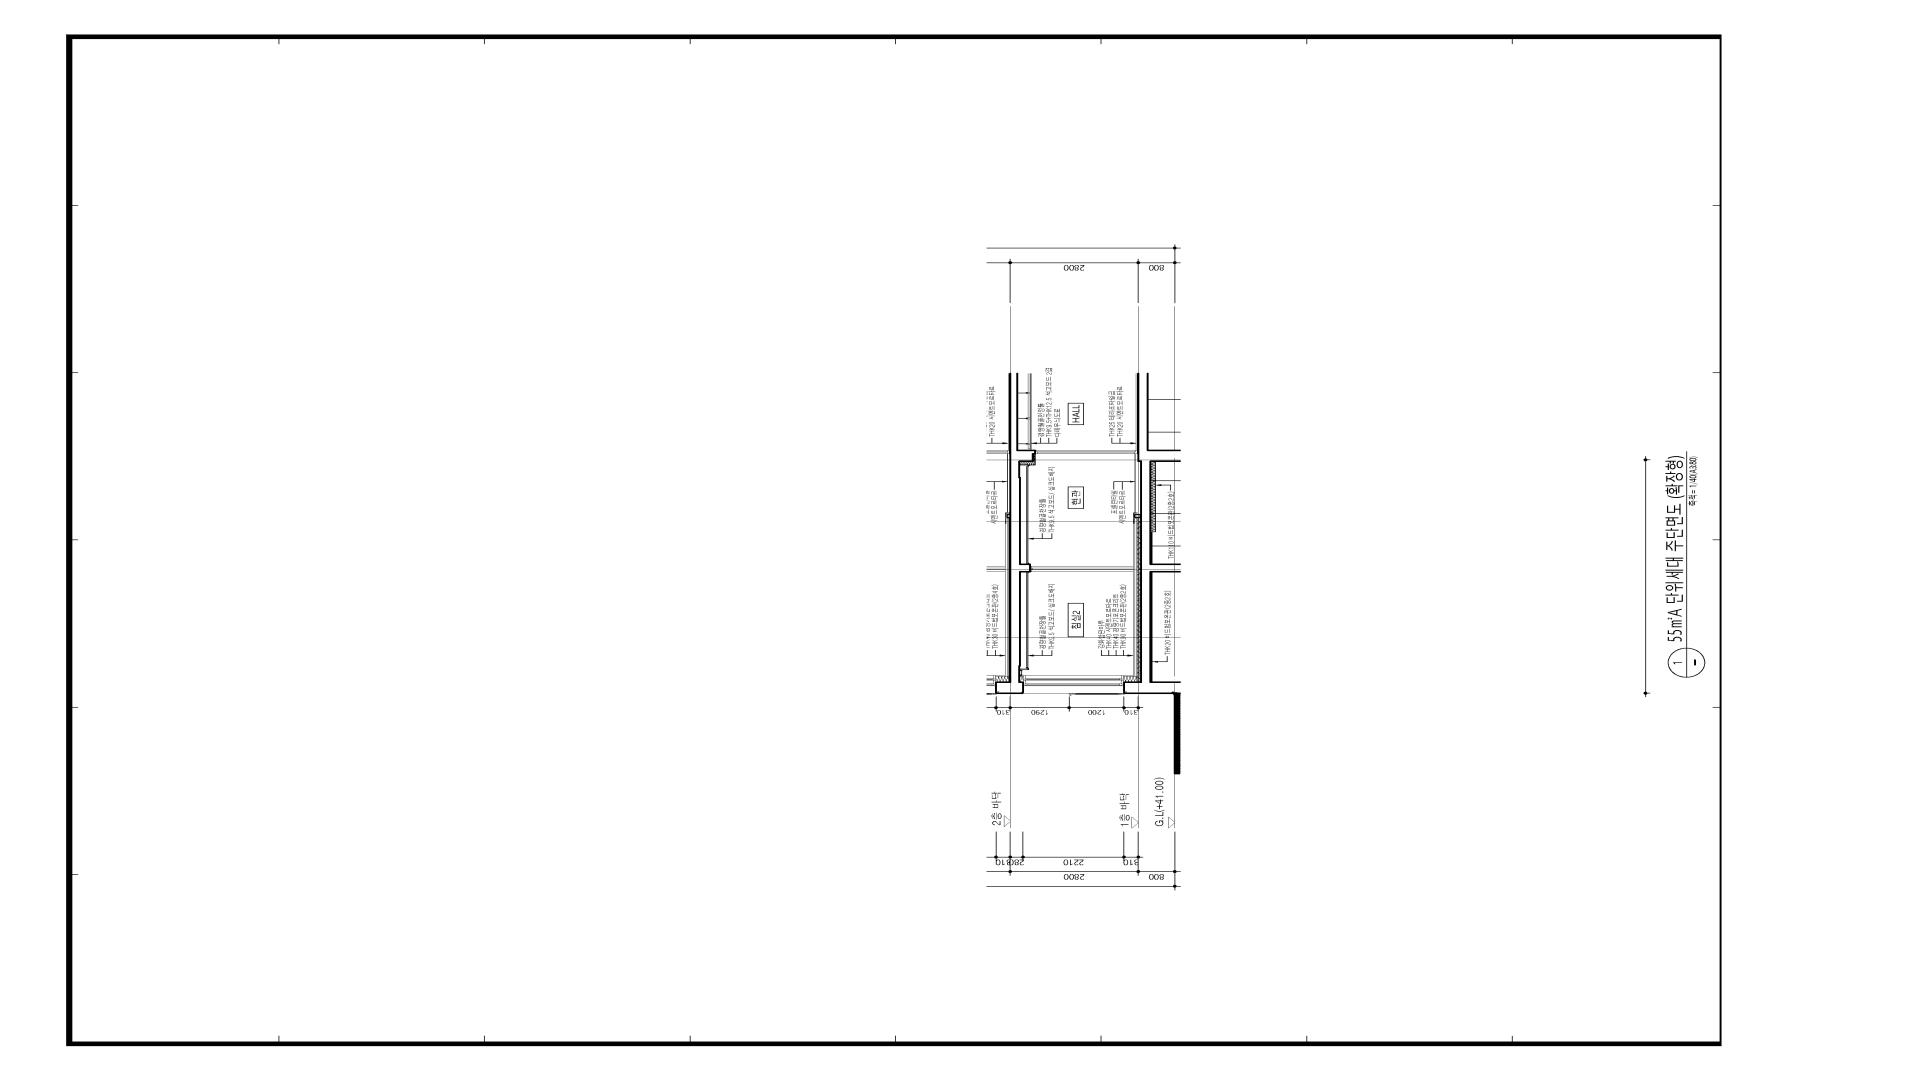door: (1031, 566, 1134, 572), (1036, 450, 1138, 455)
wall: (1124, 373, 1153, 694), (1009, 373, 1036, 694)
window: (1023, 675, 1124, 694)
